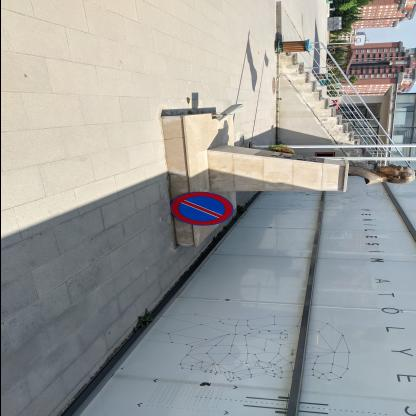No Waiting: (171, 193, 235, 227)
